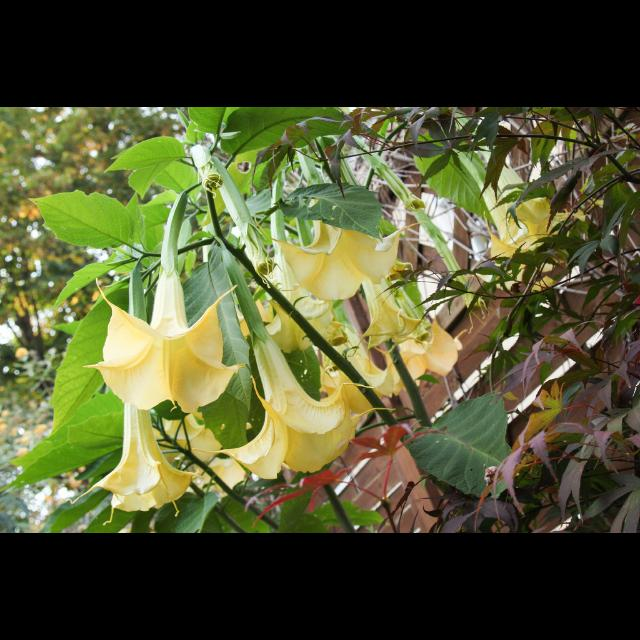Flower: (83, 271, 244, 415), (66, 404, 200, 526), (247, 338, 359, 477), (482, 161, 586, 295), (258, 222, 408, 306), (263, 246, 345, 356), (386, 320, 456, 392), (322, 346, 402, 406), (356, 278, 422, 348)
